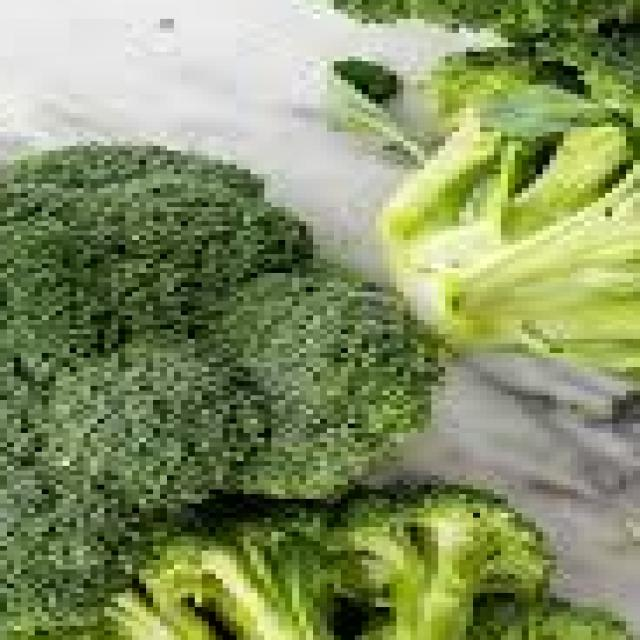broccoli: (0, 146, 438, 631), (0, 480, 640, 640), (376, 38, 640, 408)
